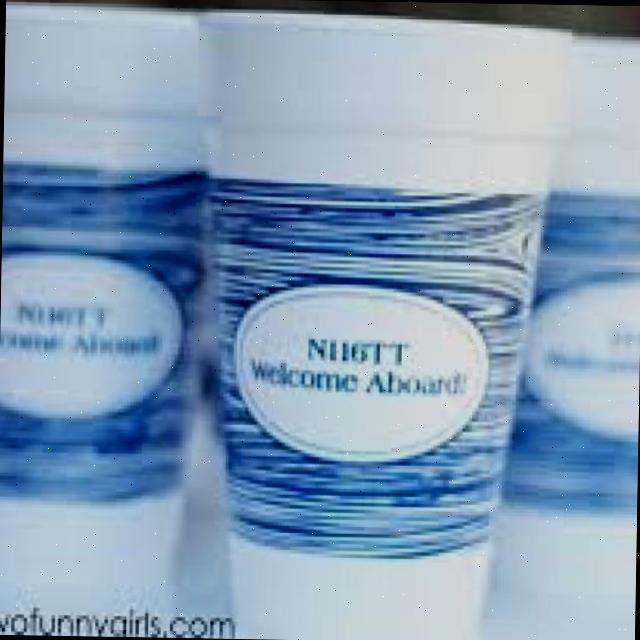trash: (182, 4, 569, 640), (0, 0, 212, 603), (499, 28, 640, 511)
